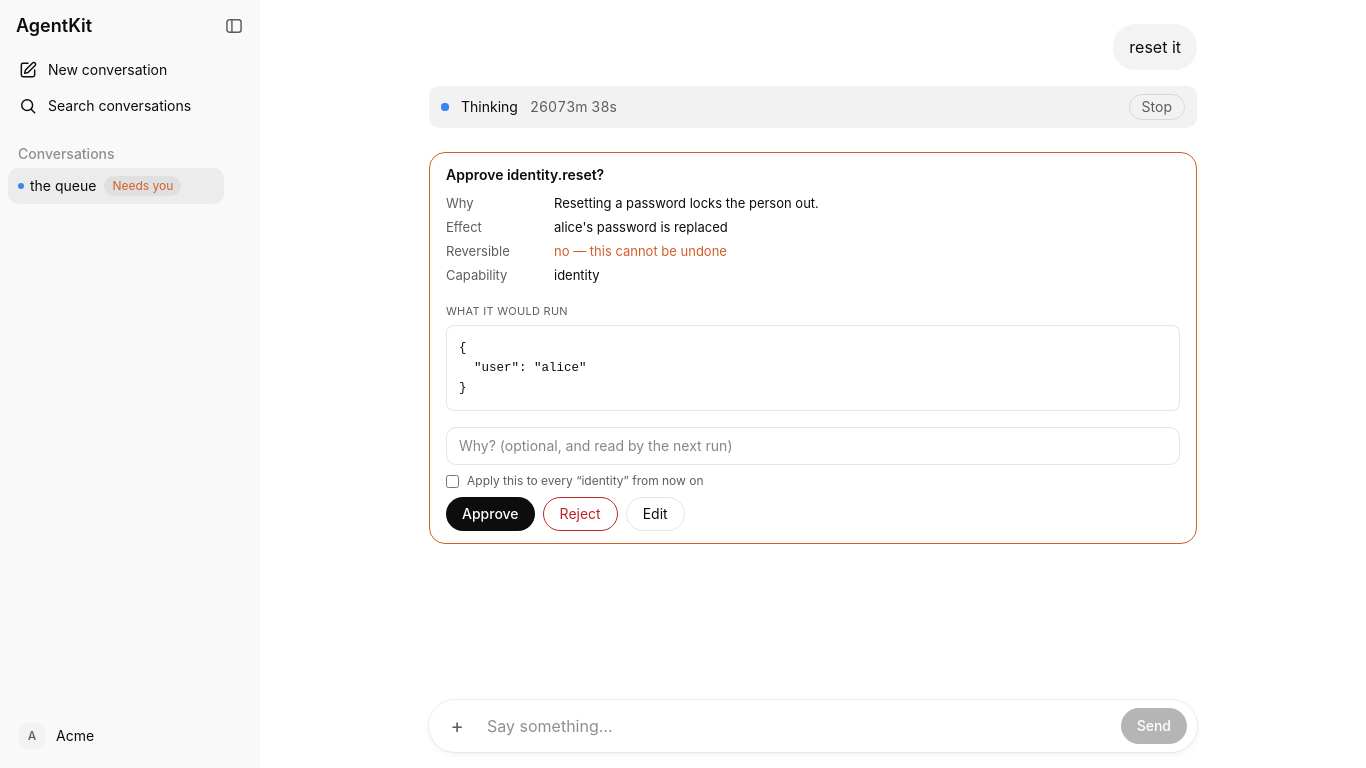
it: Console › sends the decision, with the note and the standing choice
Check: the text "the queue" is shown, box [30,176,96,196]
Check: the element with test id "approval-card" is shown, box [429,152,1197,544]
Type "she asked in the ticket" into the field named "Note". click: (813, 446)
box: [446,427,1180,465]
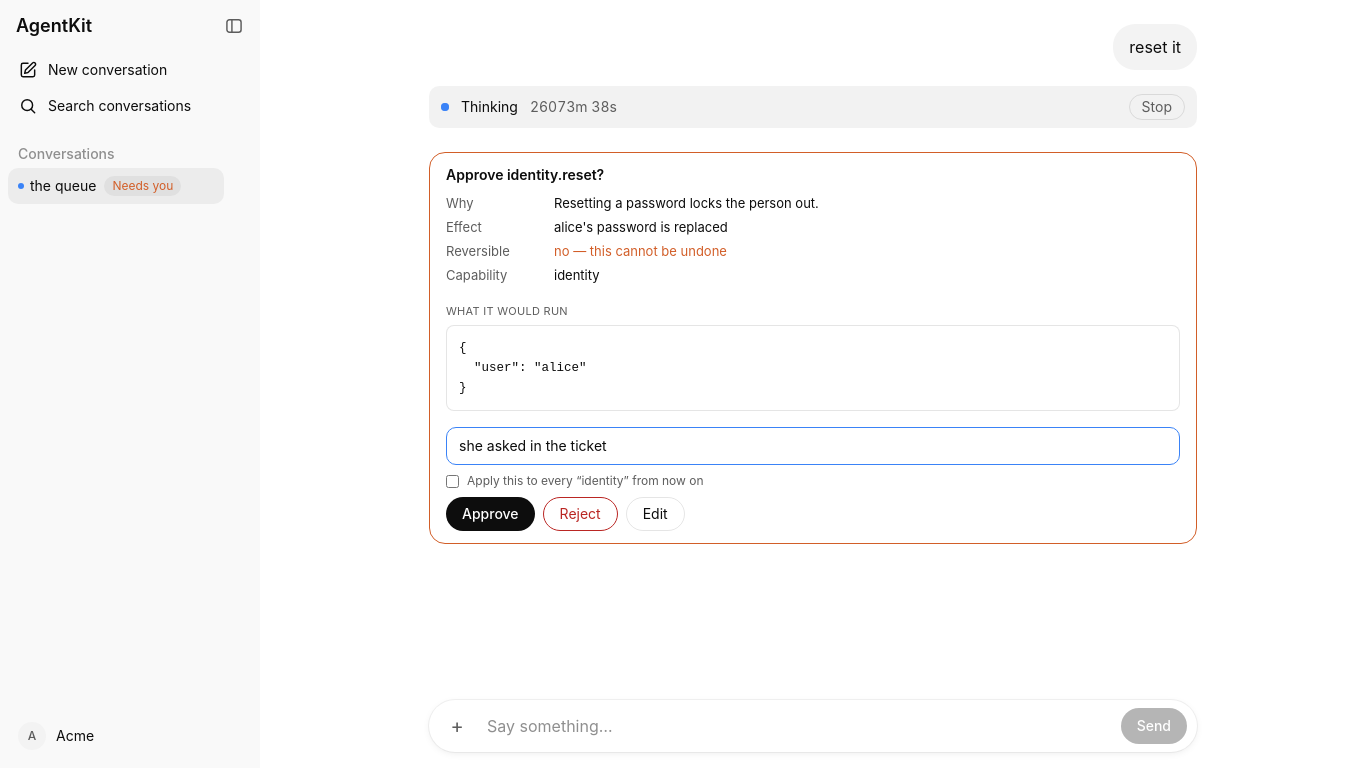
Click the checkbox labelled "Apply this to every “identity” from now on". click: (452, 481)
box: [446,474,459,488]
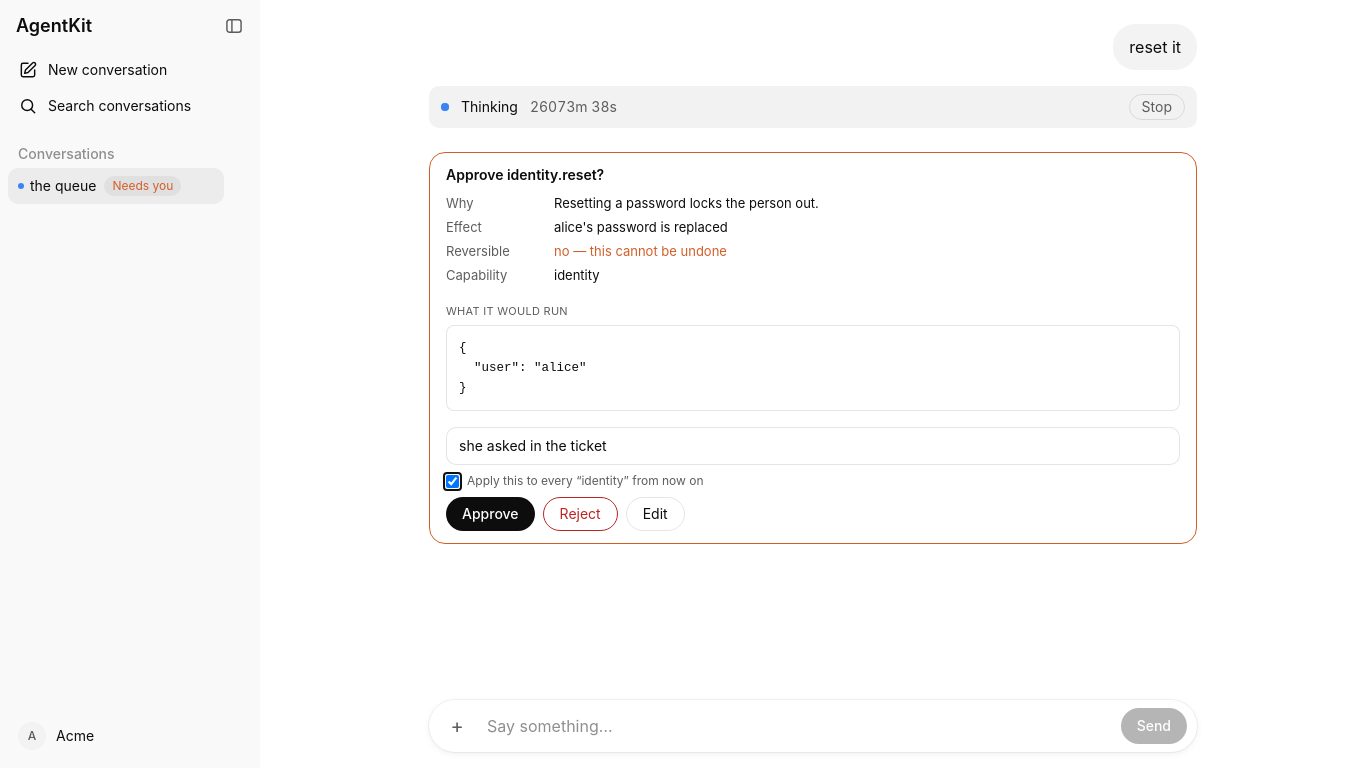
Click the button "Approve". click: (490, 514)
box: [446,497,535,531]
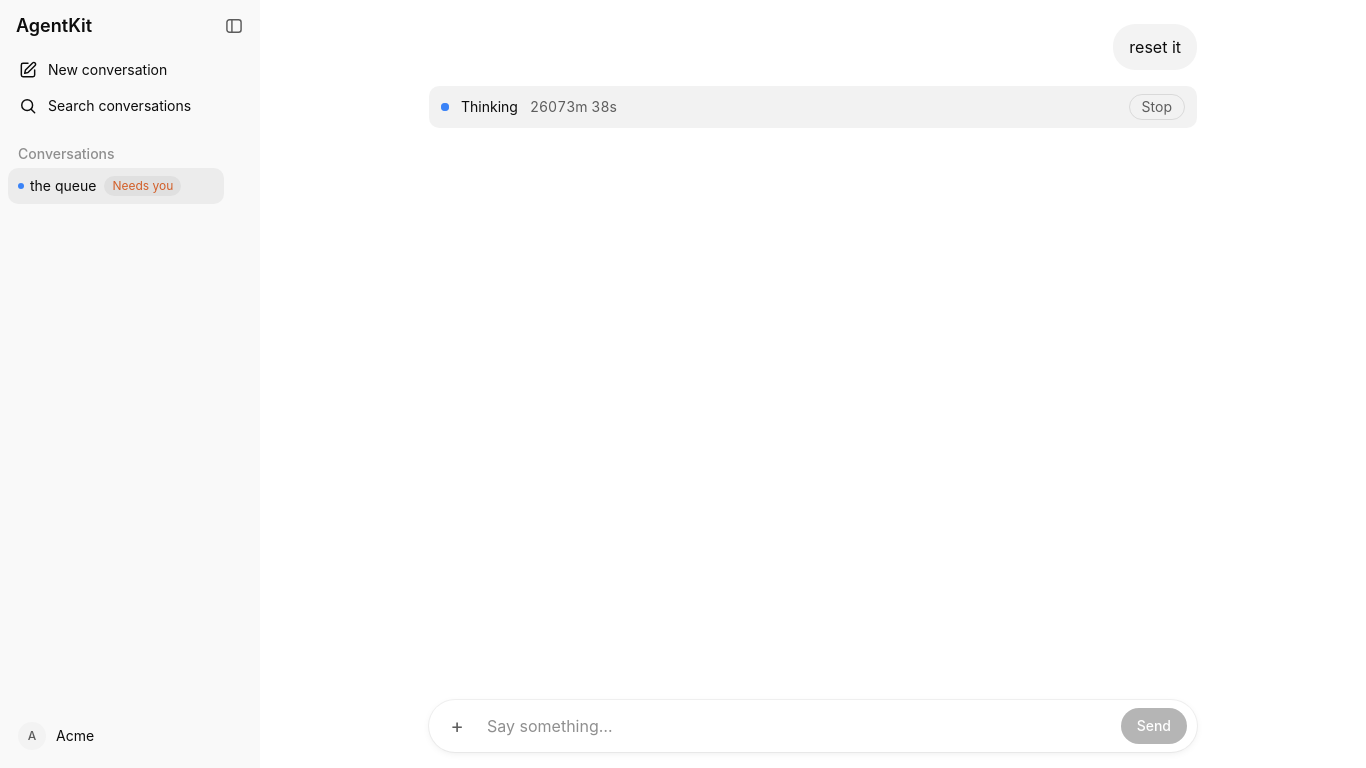
Check: the element with test id "approval-card" is gone
